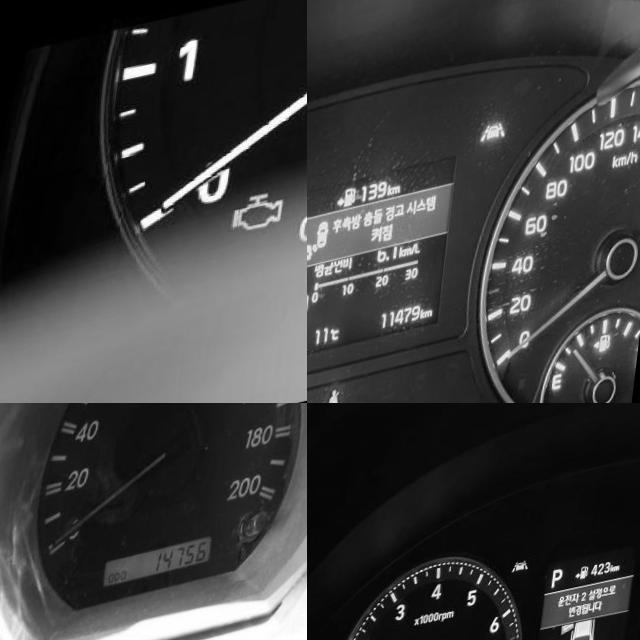LaneCenteringOff: (485, 141, 513, 165), (517, 570, 537, 586)
